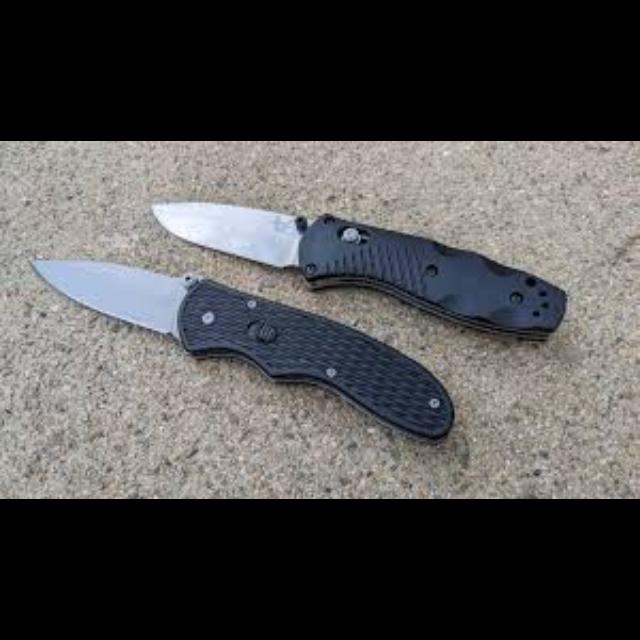Knife: (28, 256, 454, 439), (149, 199, 567, 341)
